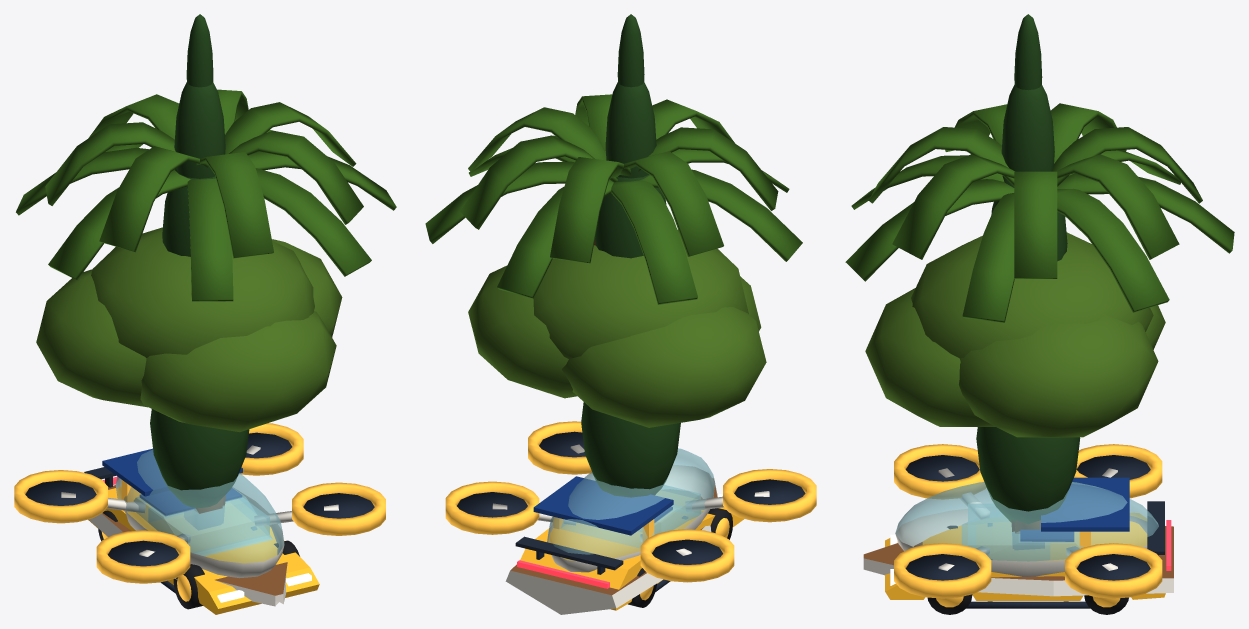
Rendered from vehicles_and_flora.glb.
3 views of the same model, side by side, from view 1: azimuth 30°, elevation 25°; view 2: azimuth 150°, elevation 25°; view 3: azimuth 270°, elevation 25° (orthographic). The views are drawn at different scales.
Parts seen in each view (by area): view 1: OliveTree, DatePalm, Evtol, Cypress, Supercar, Boat, Wheel_FL; view 2: OliveTree, DatePalm, Evtol, Cypress, Boat, Supercar, Wheel_FL; view 3: OliveTree, DatePalm, Evtol, Cypress, Boat, Supercar, Wheel_FR, Wheel_RR.
Boxes of the visible parts, left/top/right/bottom form: OliveTree: left=36, top=227, right=342, bottom=513; DatePalm: left=16, top=89, right=396, bottom=506; Evtol: left=14, top=423, right=385, bottom=593; Cypress: left=150, top=14, right=249, bottom=507; Supercar: left=84, top=467, right=319, bottom=614; Boat: left=88, top=448, right=287, bottom=606; Wheel_FL: left=173, top=564, right=204, bottom=609; OliveTree: left=468, top=229, right=766, bottom=427; DatePalm: left=425, top=94, right=802, bottom=304; Evtol: left=445, top=421, right=816, bottom=591; Cypress: left=581, top=14, right=680, bottom=497; Boat: left=505, top=476, right=717, bottom=614; Supercar: left=515, top=494, right=743, bottom=610; Wheel_FL: left=708, top=508, right=732, bottom=539; OliveTree: left=865, top=232, right=1165, bottom=531; DatePalm: left=845, top=103, right=1234, bottom=533; Evtol: left=894, top=444, right=1162, bottom=608; Cypress: left=976, top=14, right=1080, bottom=523; Boat: left=863, top=477, right=1173, bottom=596; Supercar: left=885, top=501, right=1171, bottom=600; Wheel_FR: left=927, top=594, right=972, bottom=614; Wheel_RR: left=1084, top=595, right=1128, bottom=614.
Bounding box in the file's own units: 6.24 × 10.03 × 6.15.
